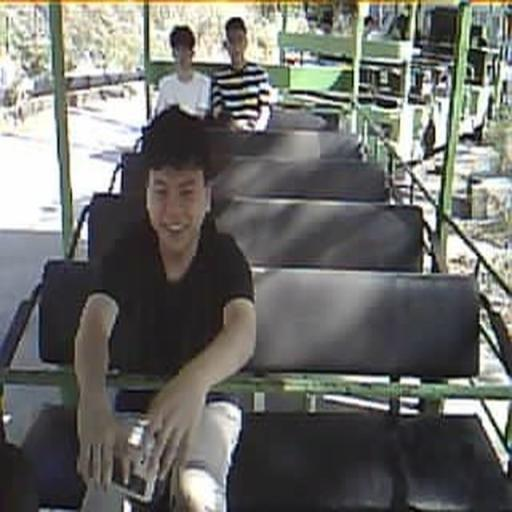persona: (72, 104, 258, 510), (210, 16, 272, 134), (152, 24, 212, 120)
